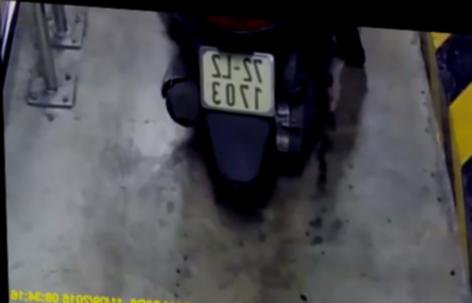License_Plate: (195, 48, 283, 118)
